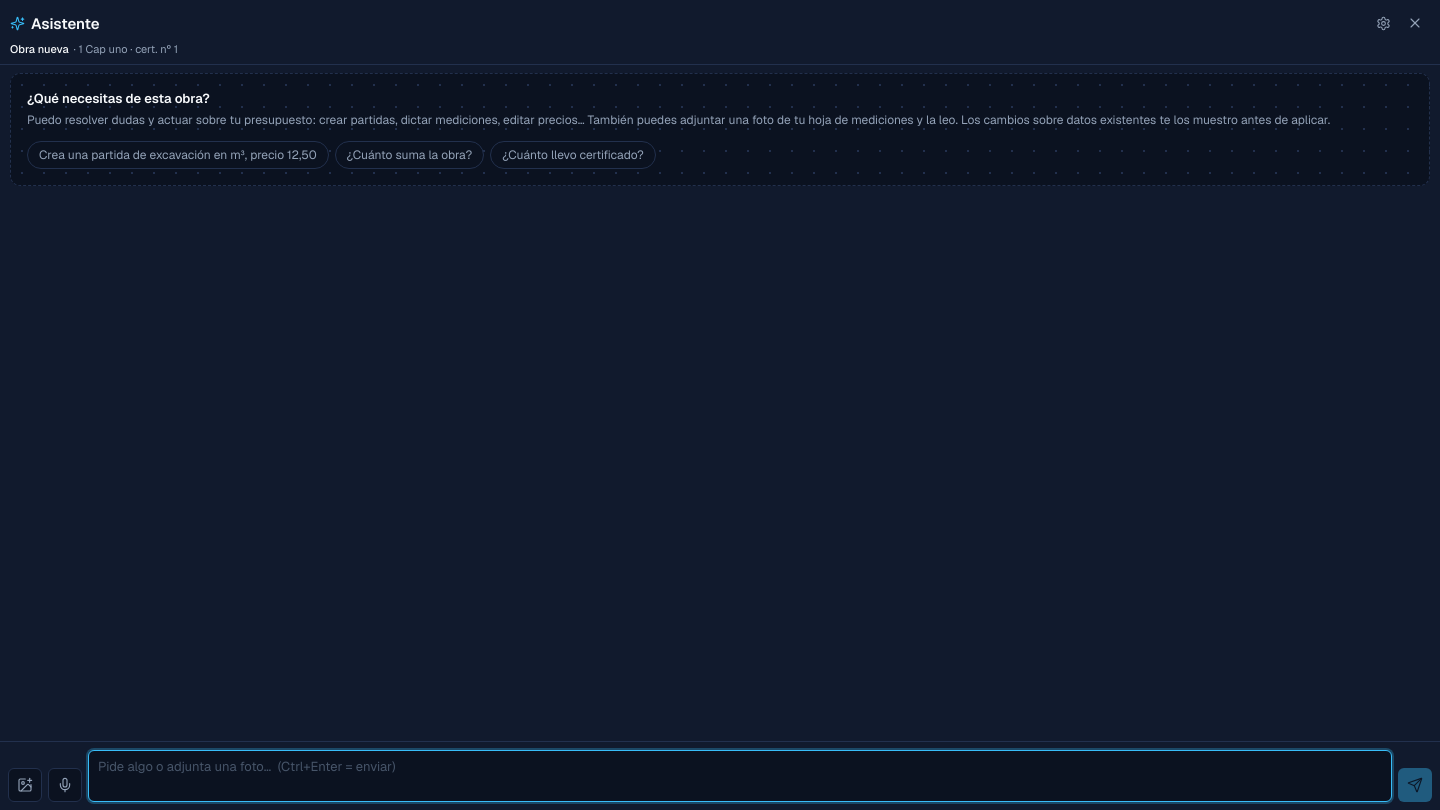
Test case: AsistenteChat · ops (integración) › op directa (crear_partida) → informe enumerado + partida creada
Type "crea una partida de excavación" into the text box named "Escribe tu consulta o una orden" at (740, 776), box [88, 750, 1392, 802]
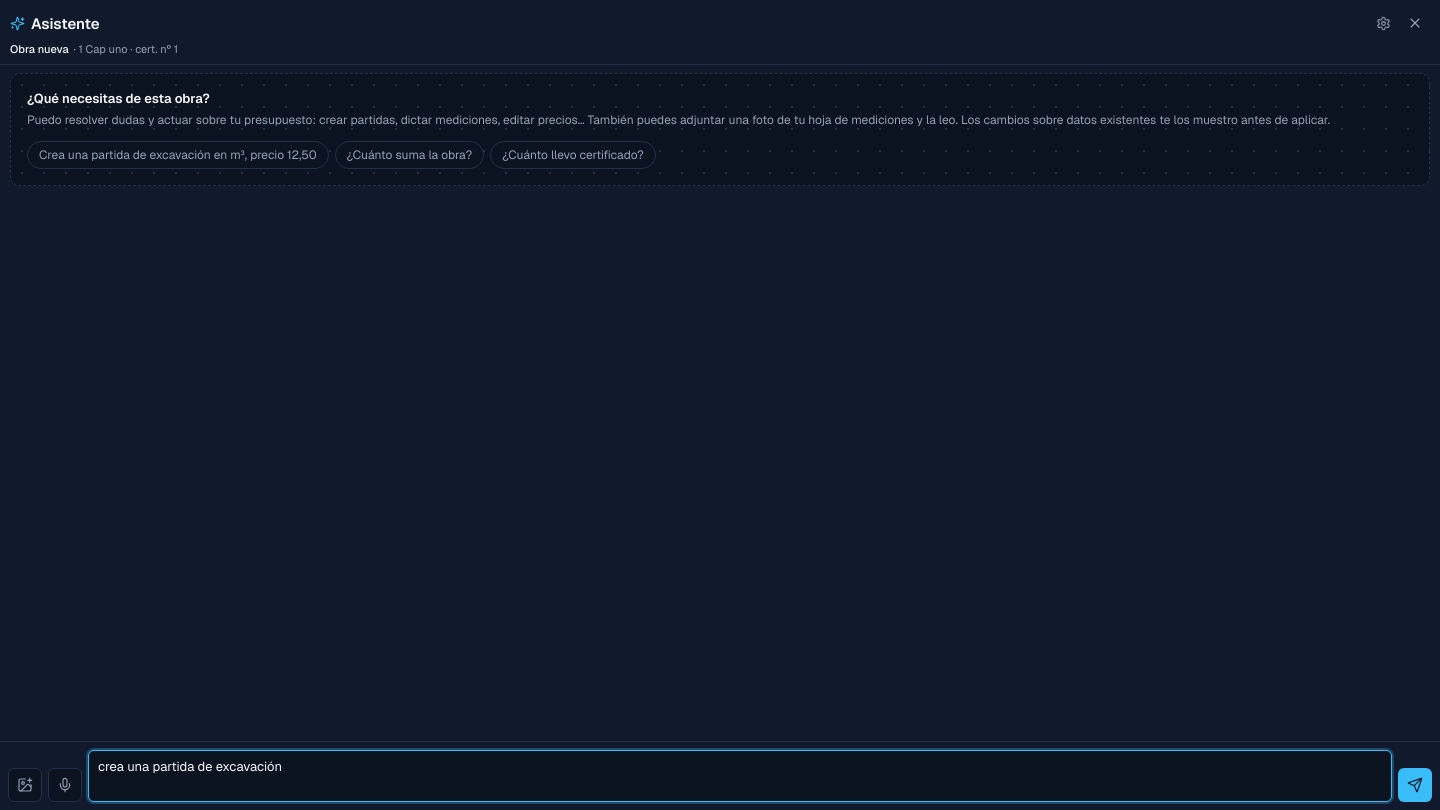
Click the button named "Enviar" at (1415, 785), box [1398, 768, 1432, 802]
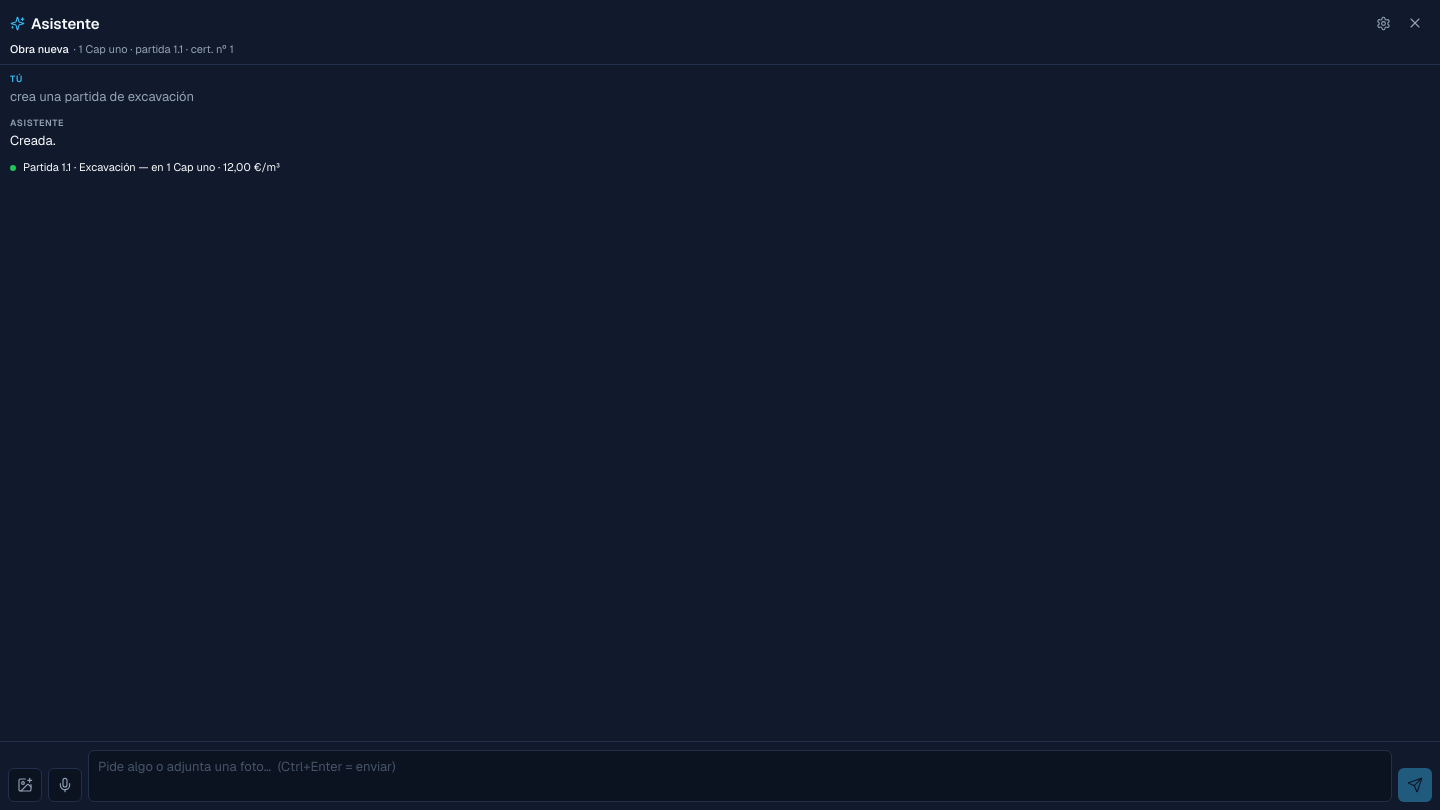
Result: the text "Partida 1.1 · Excavación — en 1 Cap uno · 12,00 €/m³" is shown at [23, 160, 280, 176]
